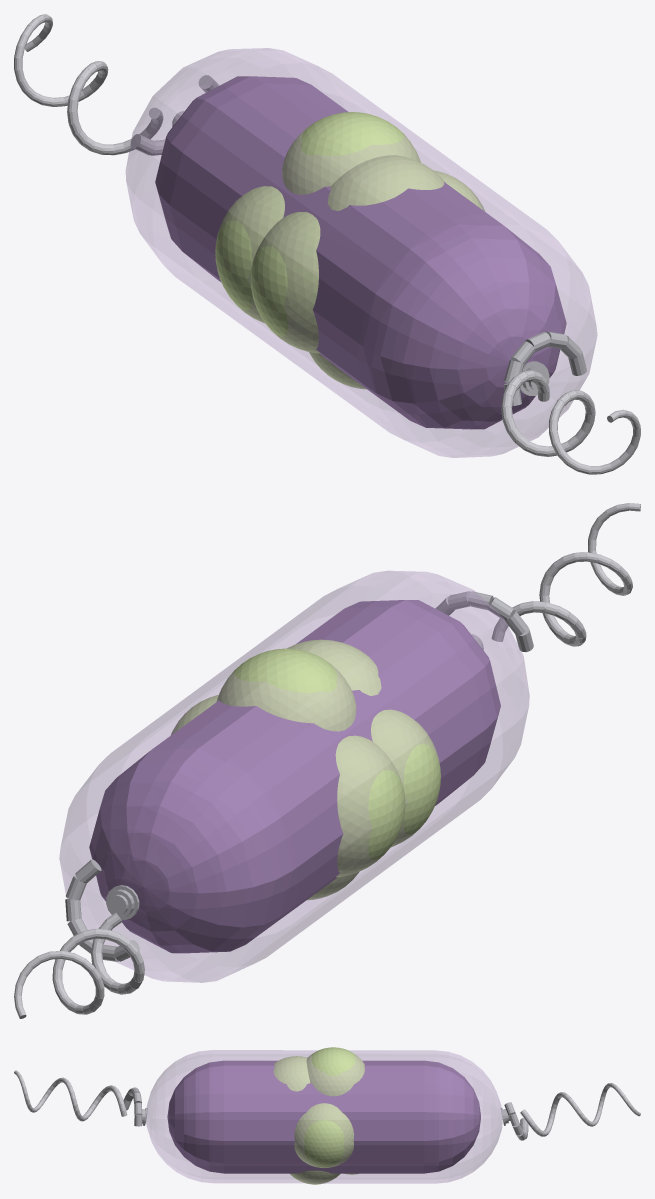
Rendered from bacteria_bacteria_ficticia_gama_8280297.glb.
3 renders of one model, top to bottom at view 1: azimuth 30°, elevation 25°; view 2: azimuth 150°, elevation 25°; view 3: azimuth 270°, elevation 25°, orthographic. The views are drawn at different scales.
Visible parts, largest first — view 1: geometry_0, geometry_1, geometry_279, geometry_282, geometry_283, geometry_278; view 2: geometry_0, geometry_1, geometry_282, geometry_283, geometry_279, geometry_278; view 3: geometry_0, geometry_1, geometry_281, geometry_282, geometry_278, geometry_280.
Boxes of the visible parts, <box> form: geometry_0: <box>126,48,597,457</box>; geometry_1: <box>155,76,566,429</box>; geometry_279: <box>250,212,320,353</box>; geometry_282: <box>282,112,420,194</box>; geometry_283: <box>215,186,284,323</box>; geometry_278: <box>327,155,445,210</box>; geometry_0: <box>59,571,529,982</box>; geometry_1: <box>89,600,500,953</box>; geometry_282: <box>216,648,356,731</box>; geometry_283: <box>335,735,405,877</box>; geometry_279: <box>371,709,440,847</box>; geometry_278: <box>287,639,381,695</box>; geometry_0: <box>146,1050,502,1183</box>; geometry_1: <box>167,1060,480,1173</box>; geometry_281: <box>294,1103,354,1168</box>; geometry_282: <box>306,1047,364,1096</box>; geometry_278: <box>273,1056,310,1091</box>; geometry_280: <box>290,1170,340,1184</box>.
Bounding box in the file's own units: 3.75 × 3.78 × 16.45.
